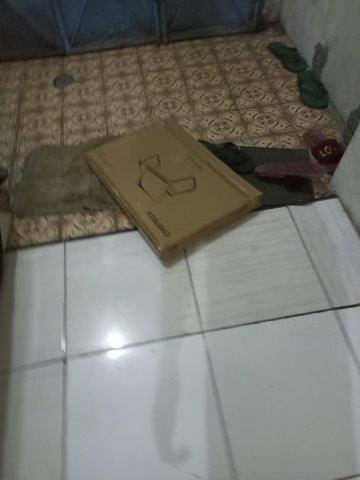kardus: (87, 123, 261, 260)
